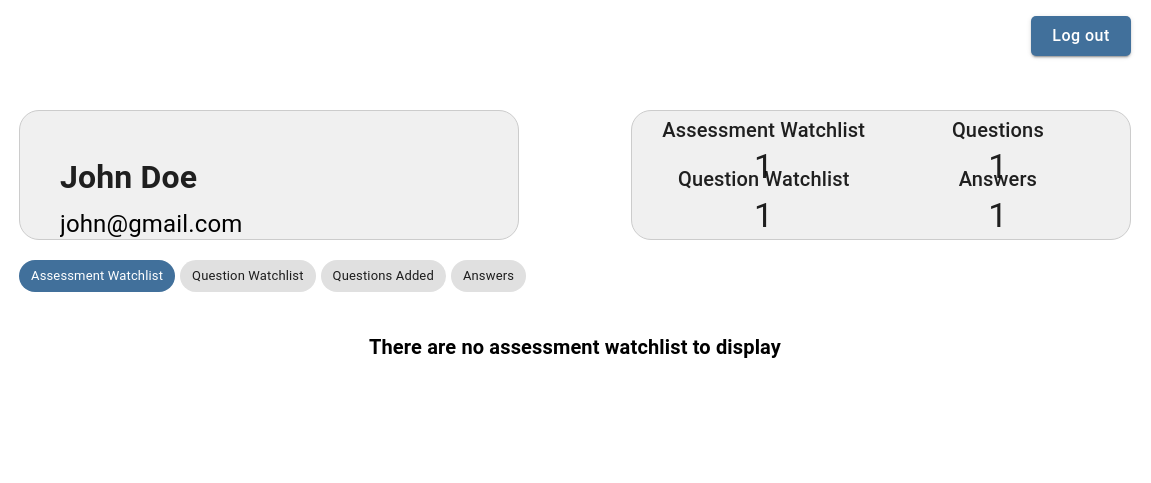
Test: Profile › displays correct data when tags are clicked
The width and height of the screenshot is (1151, 483).
Click the button "Question Watchlist": point(248, 276) [180,260,316,292]
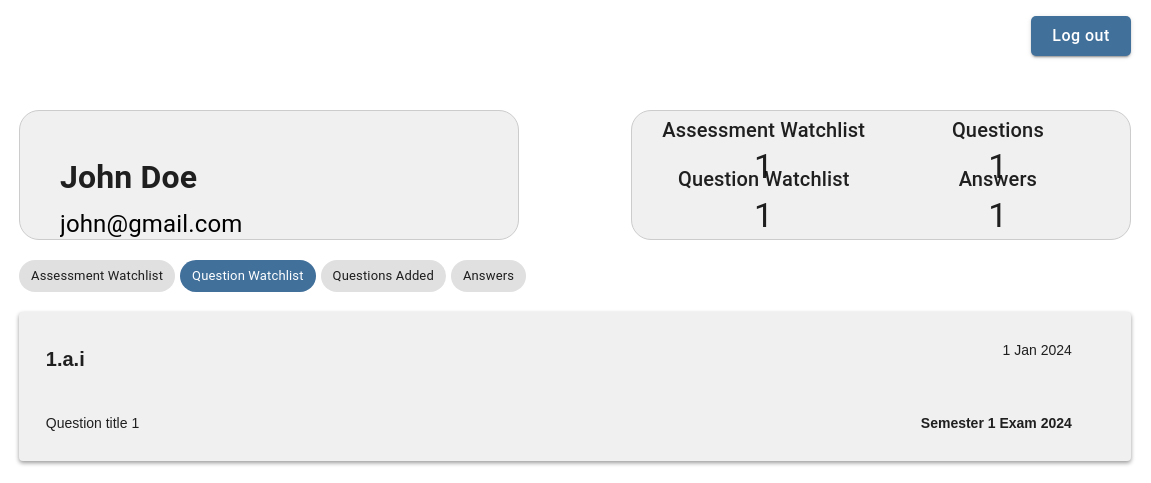
expect the text "1.a.i" is shown: met, box [46,348,85,371]
Click the button "Questions Added": point(383, 276) [321,260,446,292]
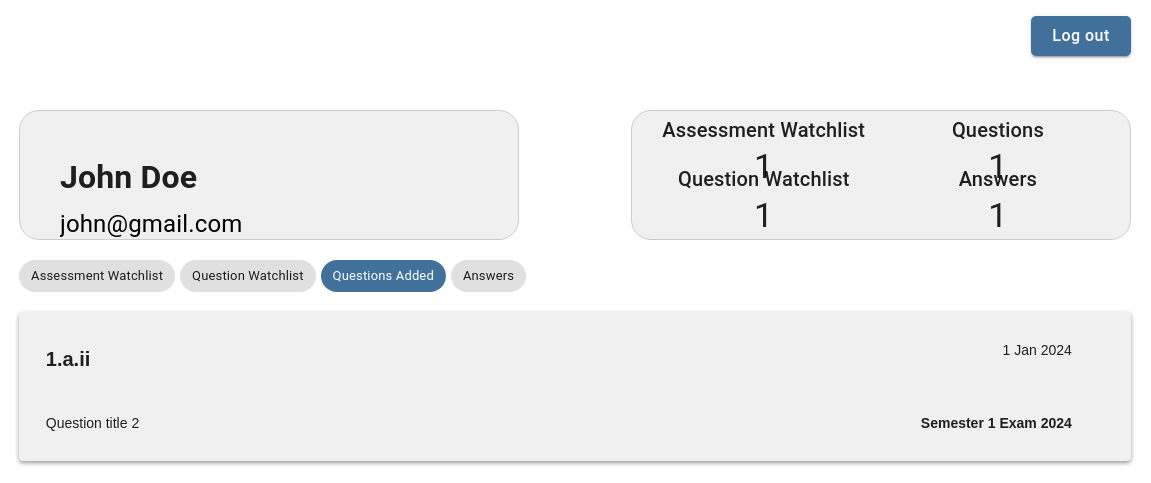
expect the text "1.a.ii" is shown: met, box [46,348,90,371]
Click the button "Answers": point(488, 276) [451,260,526,292]
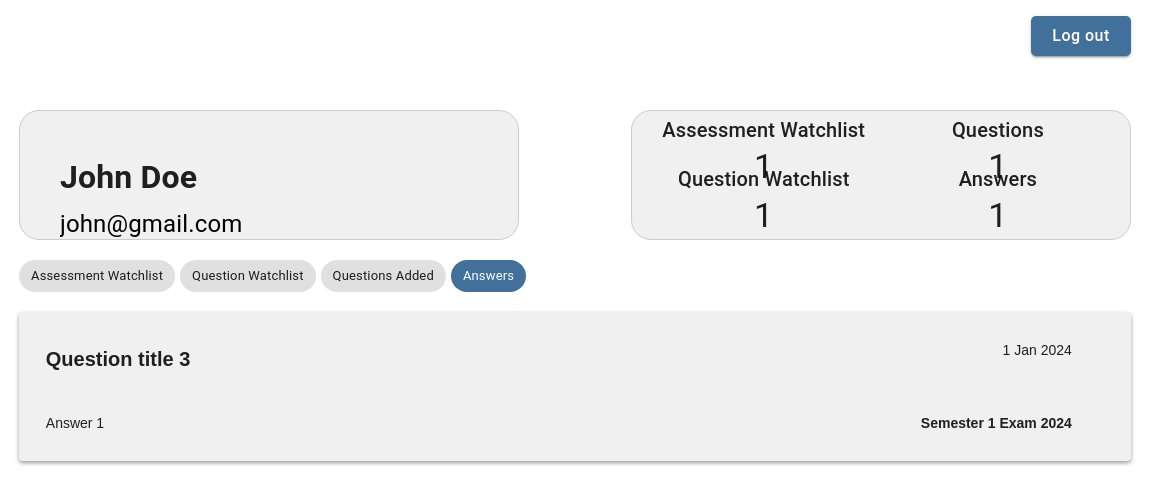
expect the text "Question title 3" is shown: met, box [46,348,190,371]
Click the button "Assessment Watchlist": point(97, 276) [19,260,175,292]
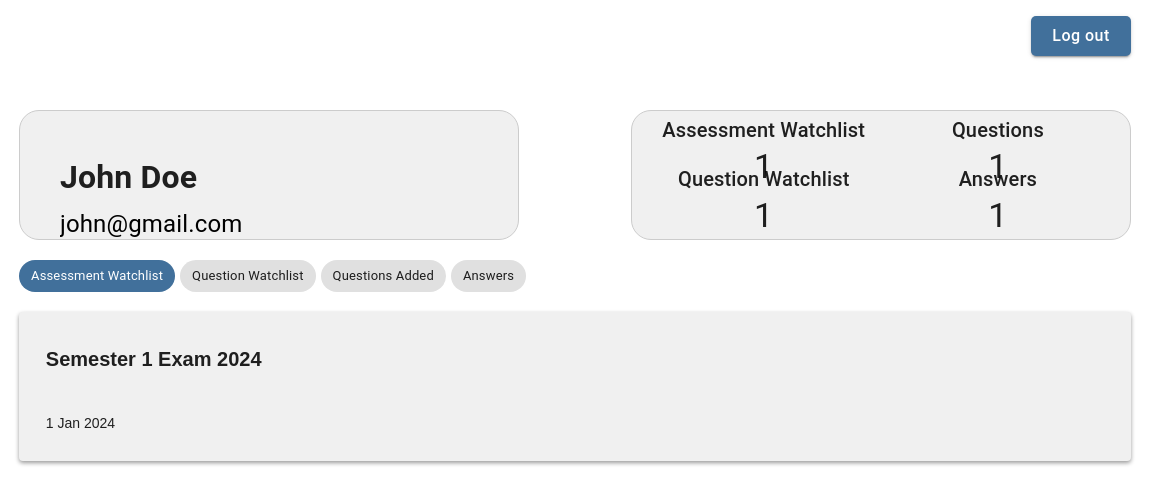
expect the text "Semester 1 Exam 2024" is shown: met, box [46,348,262,371]
